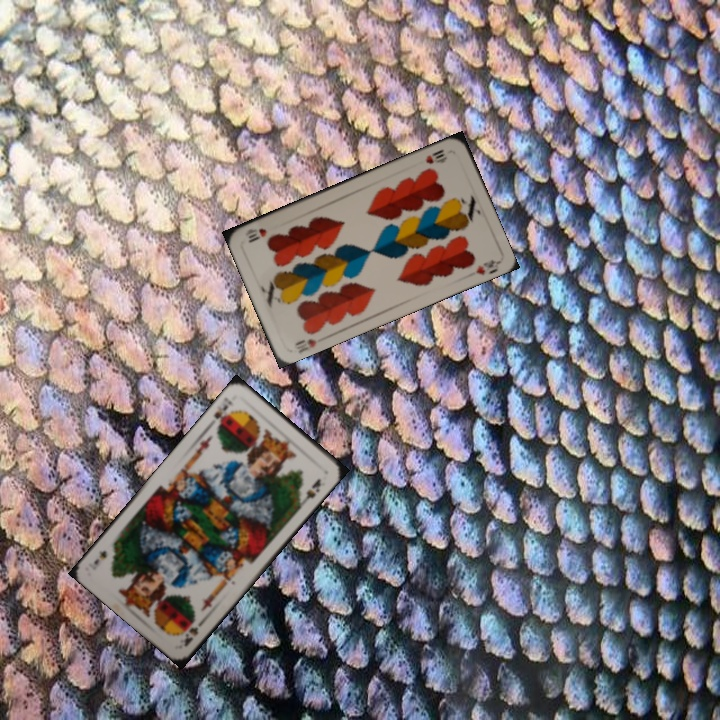H10: (421, 145, 450, 167), (289, 335, 319, 355)
SK: (210, 393, 235, 431), (180, 617, 205, 649)
